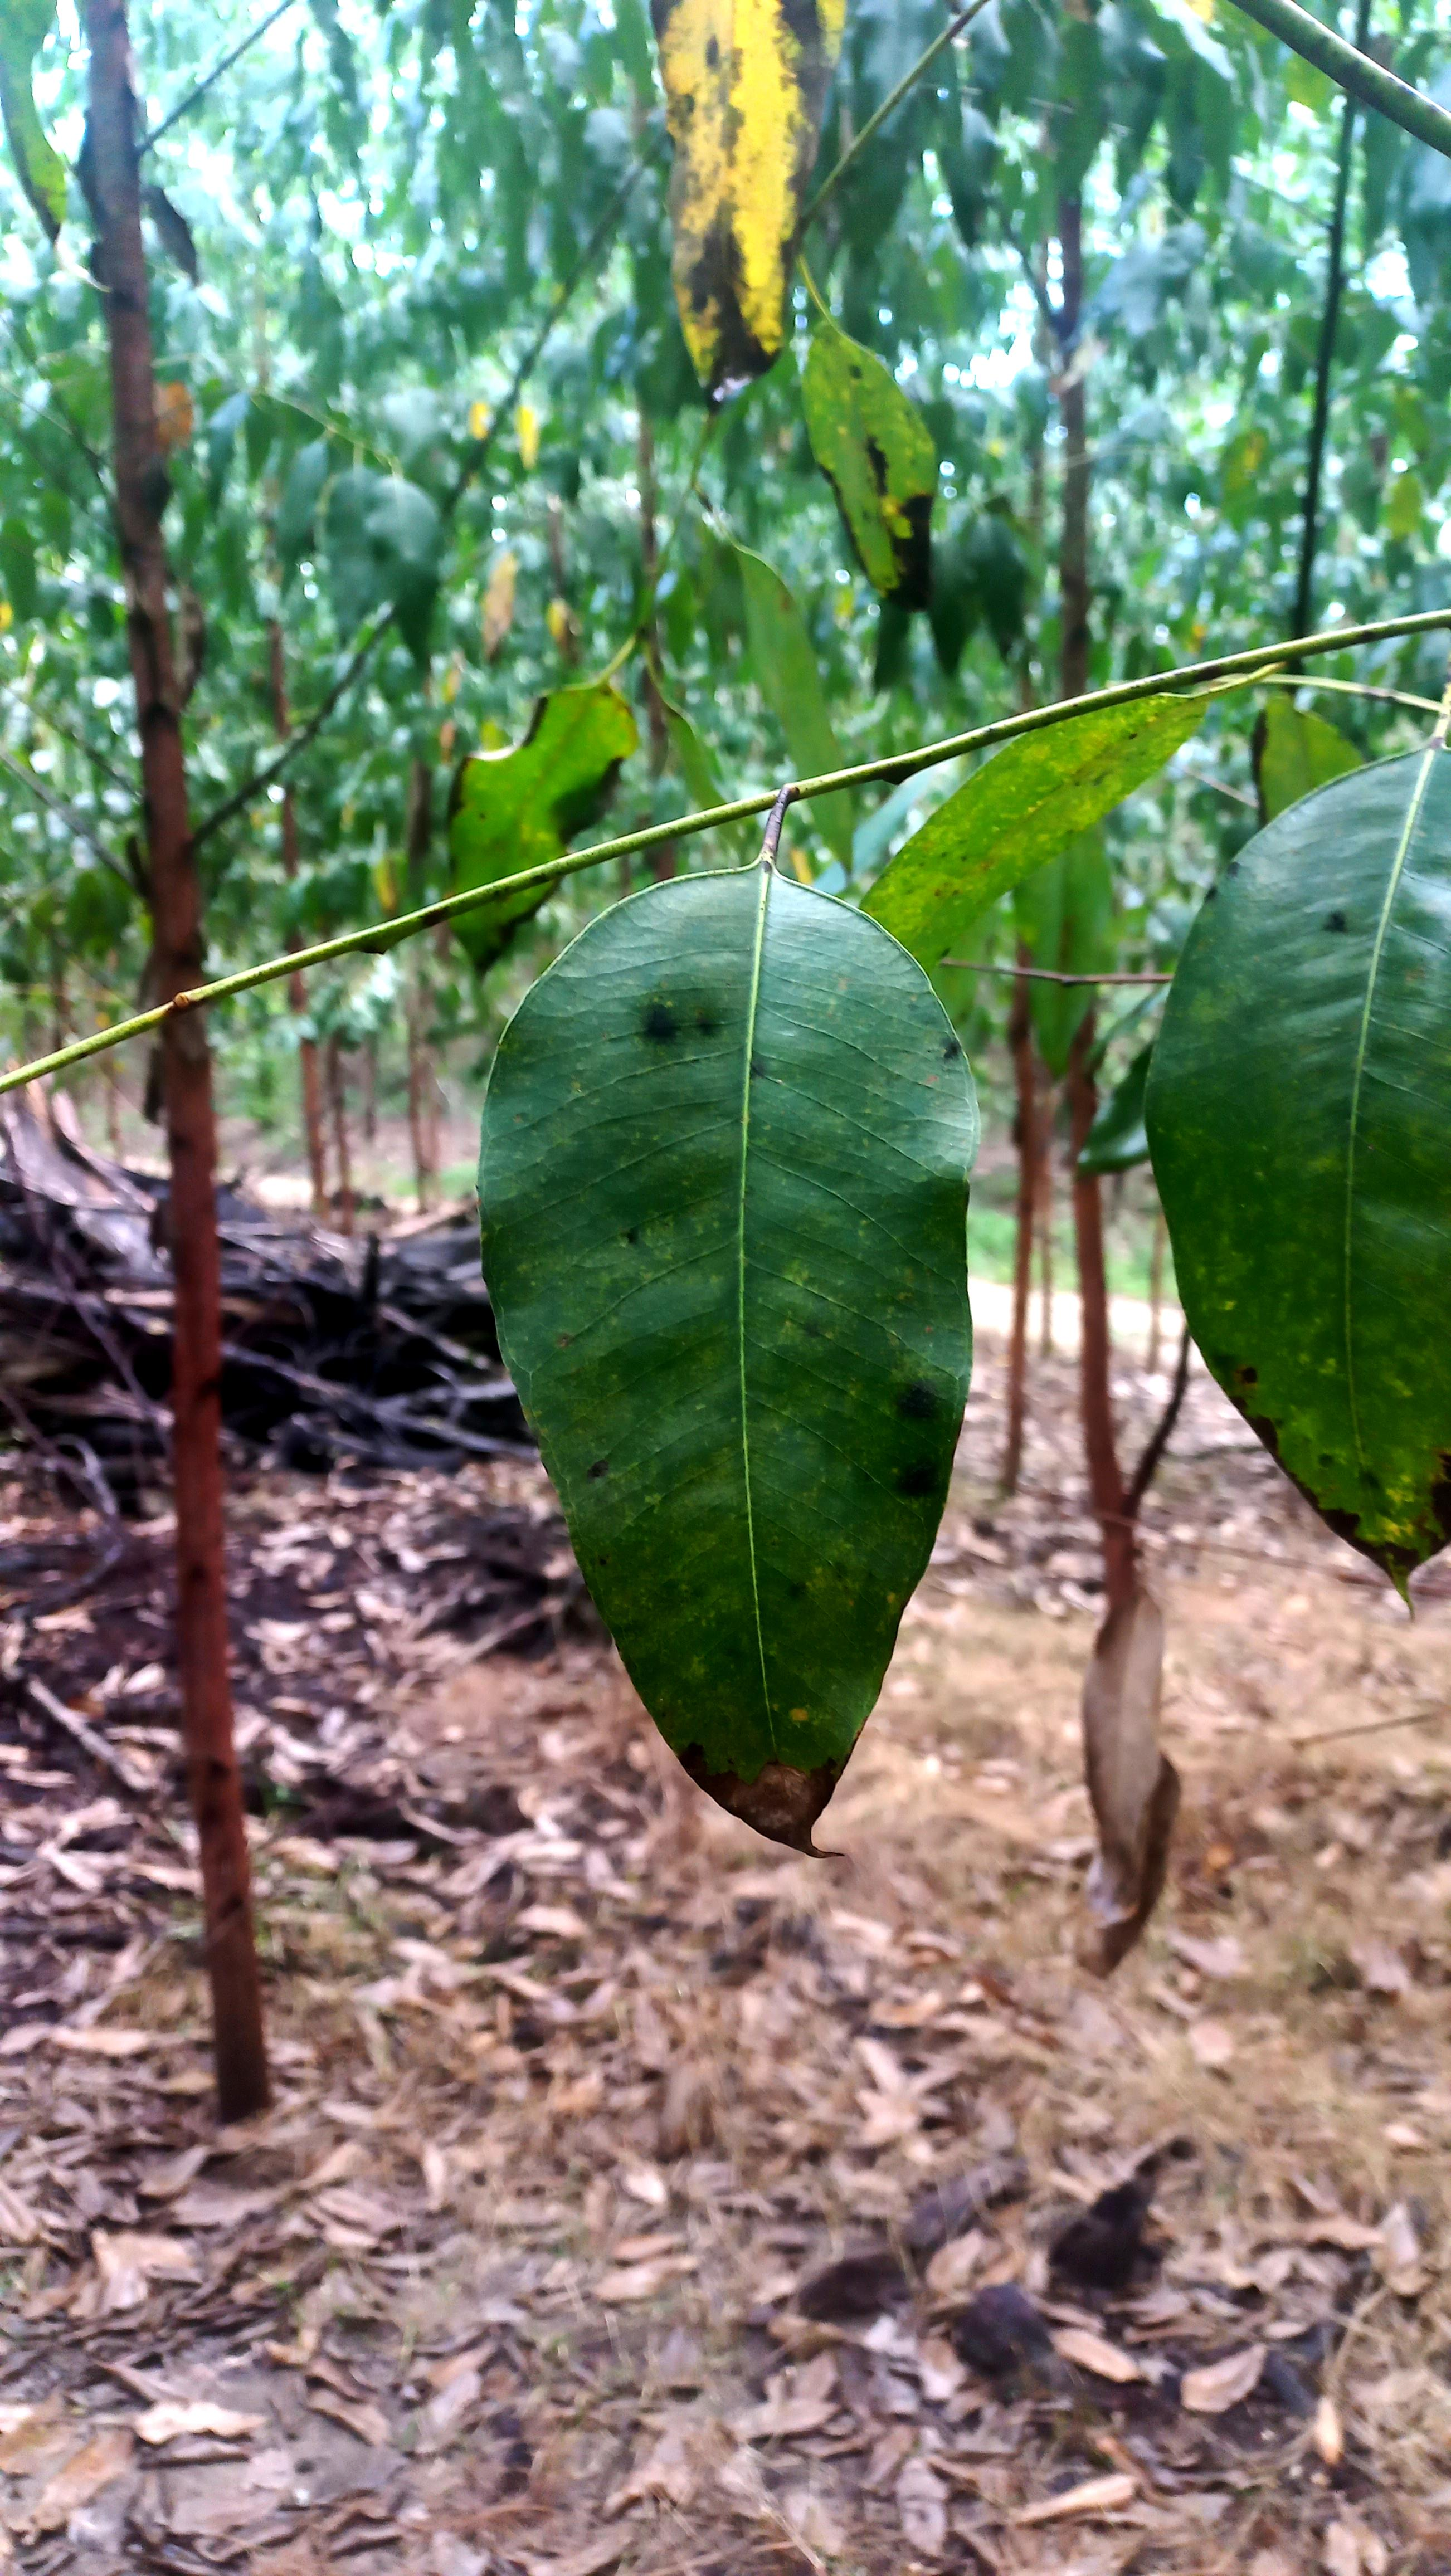Cylindrocladium: (665, 0, 849, 407), (1198, 1352, 1451, 1621), (793, 317, 943, 626), (664, 1732, 853, 1867)
Embun Jelaga: (872, 1352, 950, 1502), (635, 971, 740, 1079), (1317, 895, 1355, 952)
